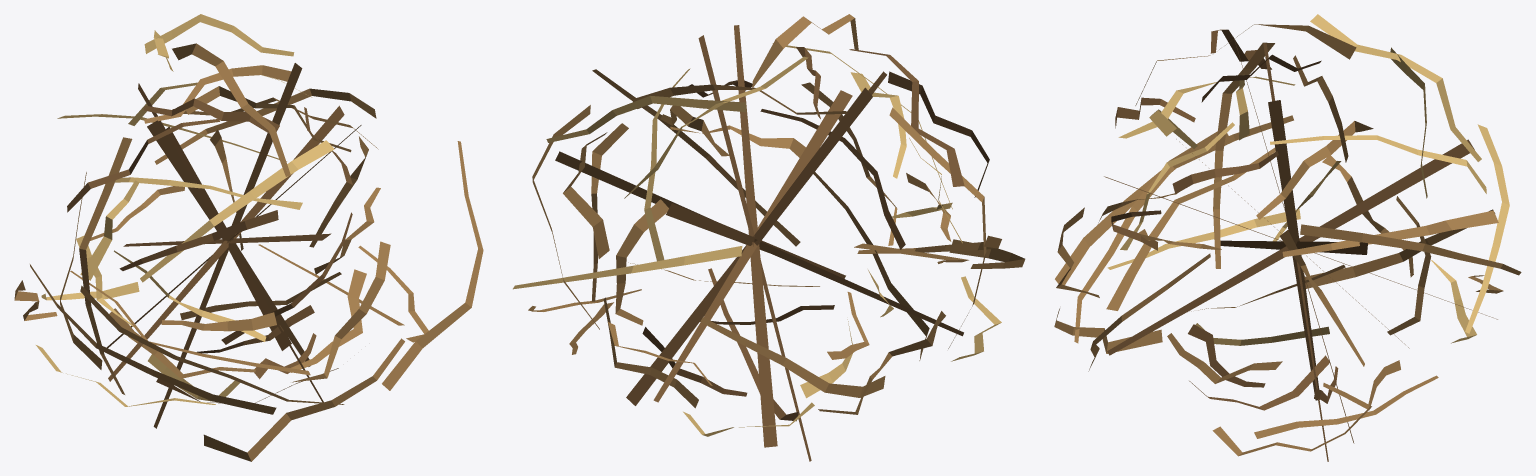
Rendered from tumbleweed_large.fbx.
3 renders of one model, left to right at view 1: azimuth 30°, elevation 25°; view 2: azimuth 150°, elevation 25°; view 3: azimuth 270°, elevation 25°, orthographic. The views are drawn at different scales.
Parts seen in each view (by area): view 1: tumbleweed_large; view 2: tumbleweed_large; view 3: tumbleweed_large.
Boxes of the visible parts, <box> form: tumbleweed_large: <box>14,14,483,461</box>; tumbleweed_large: <box>513,14,1025,461</box>; tumbleweed_large: <box>1054,14,1521,461</box>.
Bounding box in the file's own units: 82.11 × 75.81 × 81.27.
1 material, 1 textured.
